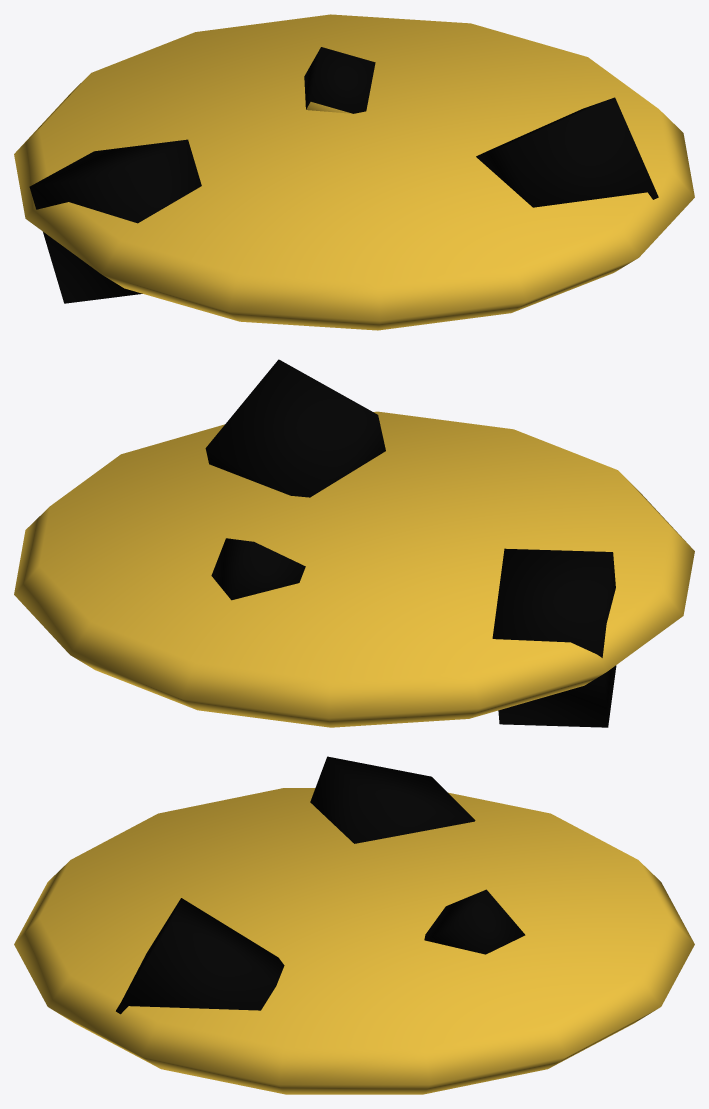
Rendered from cookie.fbx.
3 views of the same model, one above another, from view 1: azimuth 30°, elevation 25°; view 2: azimuth 150°, elevation 25°; view 3: azimuth 270°, elevation 25° (orthographic).
Parts seen in each view (by area): view 1: Cookie; view 2: Cookie; view 3: Cookie.
Part boxes in pixels (<box>): Cookie: <box>14,14,694,330</box>; Cookie: <box>14,359,694,727</box>; Cookie: <box>14,756,694,1094</box>.
Size of the model in its own units: 576 by 172 by 591.
